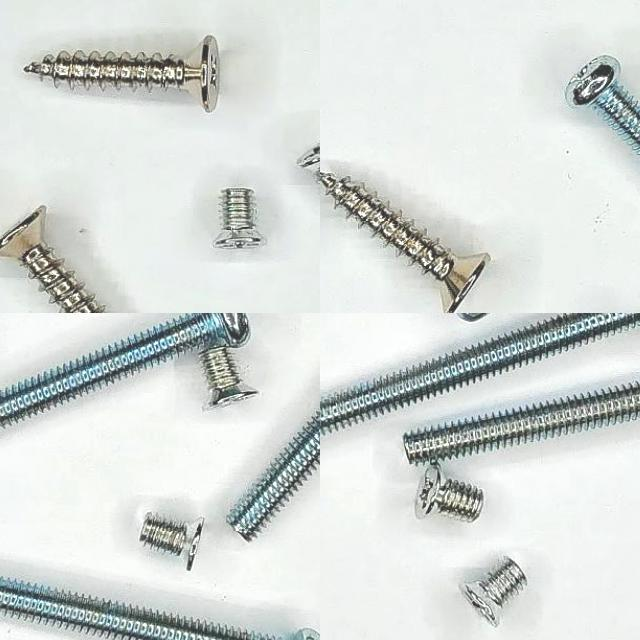Screw: (320, 313, 640, 438), (0, 313, 250, 429), (320, 173, 490, 313), (0, 577, 320, 640), (403, 381, 640, 466), (22, 34, 218, 111), (227, 410, 320, 541), (0, 206, 104, 313), (566, 56, 640, 155), (460, 558, 527, 628), (415, 463, 482, 523), (139, 514, 204, 571), (199, 347, 258, 409), (212, 188, 266, 248), (296, 142, 320, 185)
